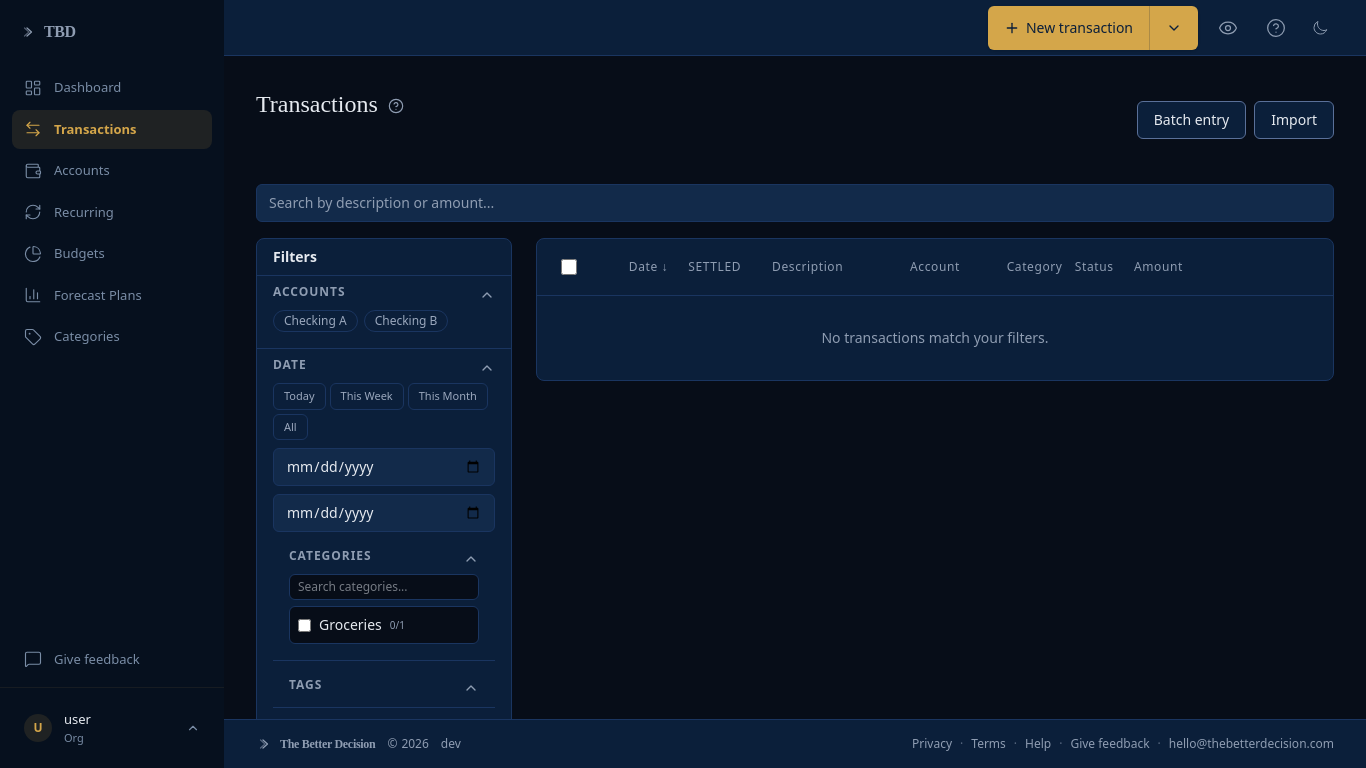
Scenario: TransactionsPage — dashboard deep links › shows the latest filter's rows when responses resolve in reverse order
Click the button with aria-label "Account Checking A" at (315, 321), box [273, 310, 358, 332]
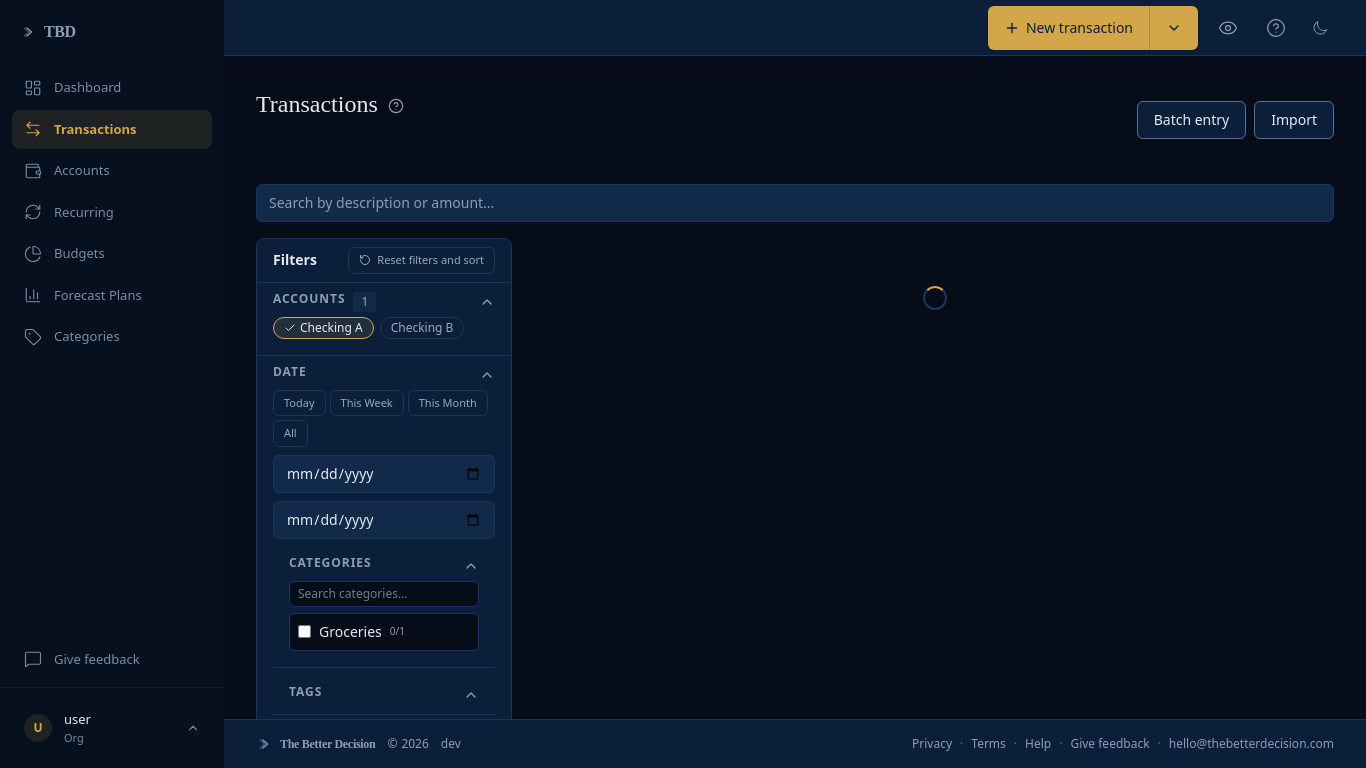
Click the button with aria-label "Account Checking B" at (422, 328), box [380, 316, 464, 338]
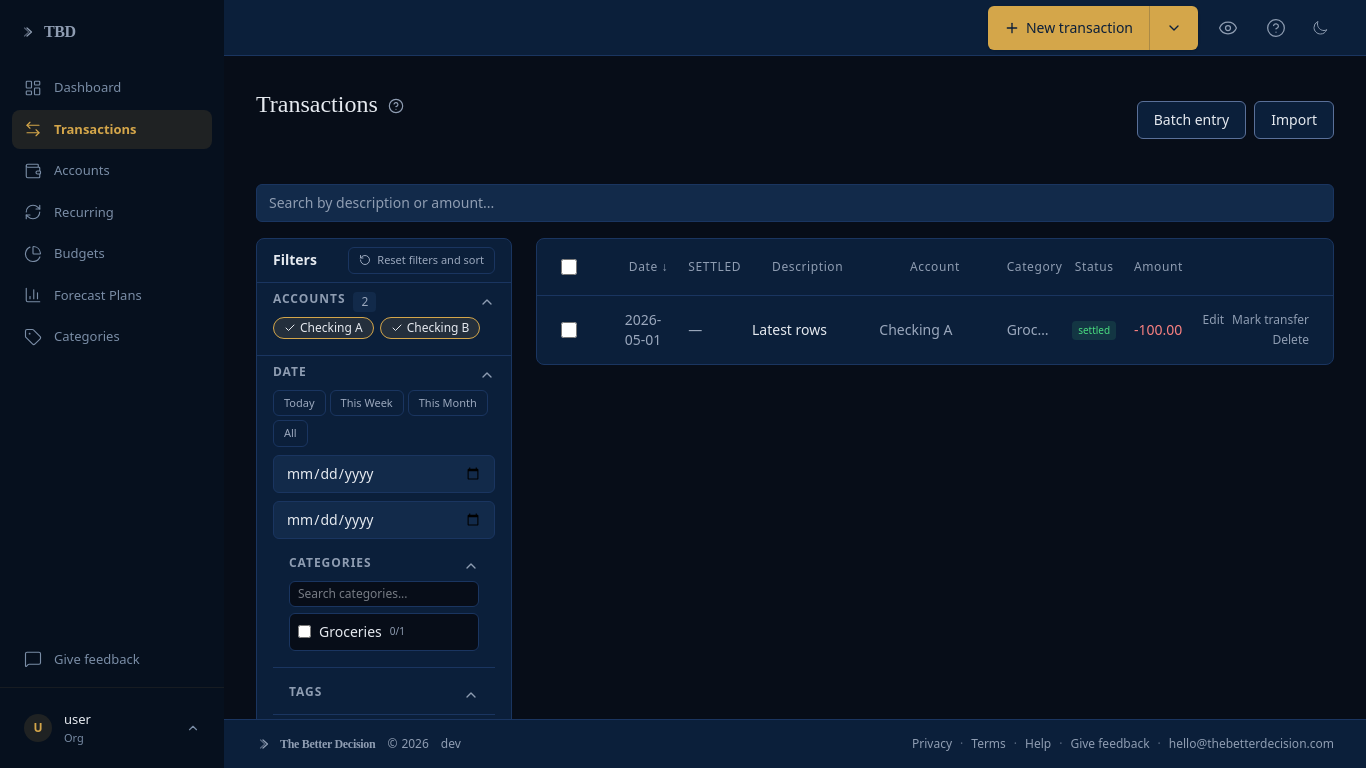
Check: the text "Latest rows" is shown, box [752, 320, 827, 339]
